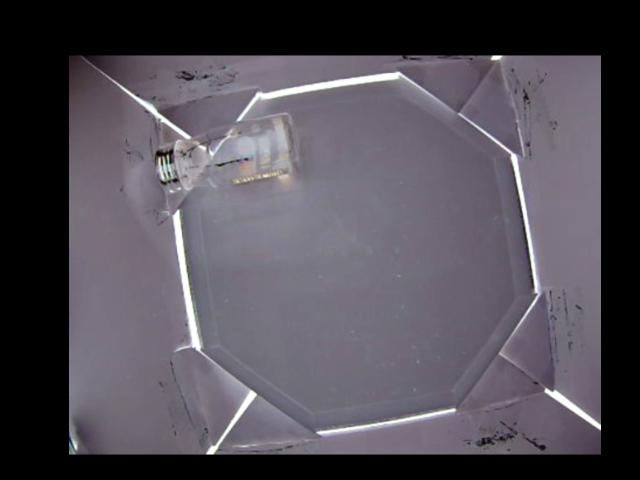Bottle: (152, 114, 300, 192)
